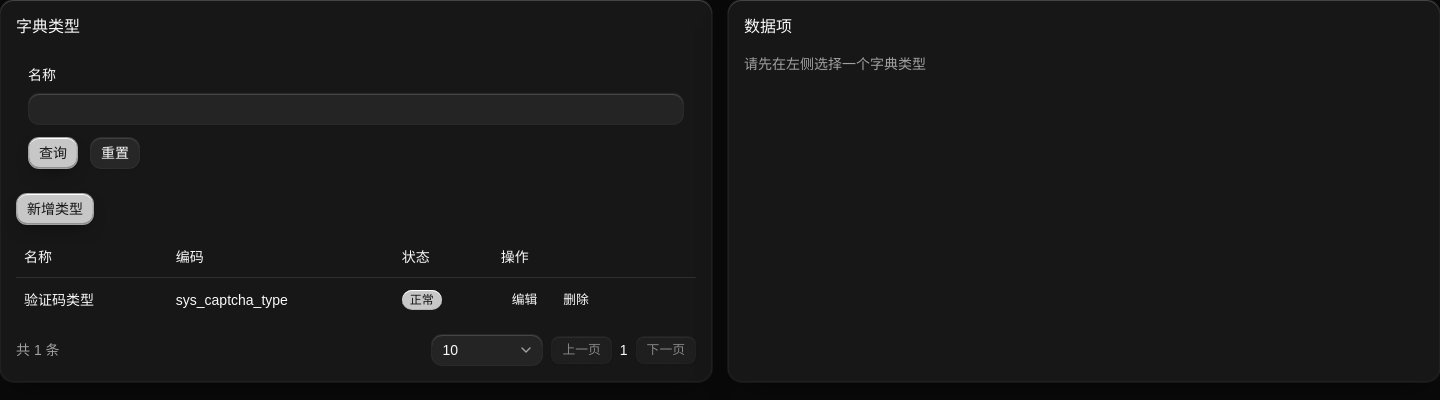
Scenario: Dict page (two panels) › loads type list then items of selected type
Click the button "验证码类型" at [59, 300], box [24,290,94,310]
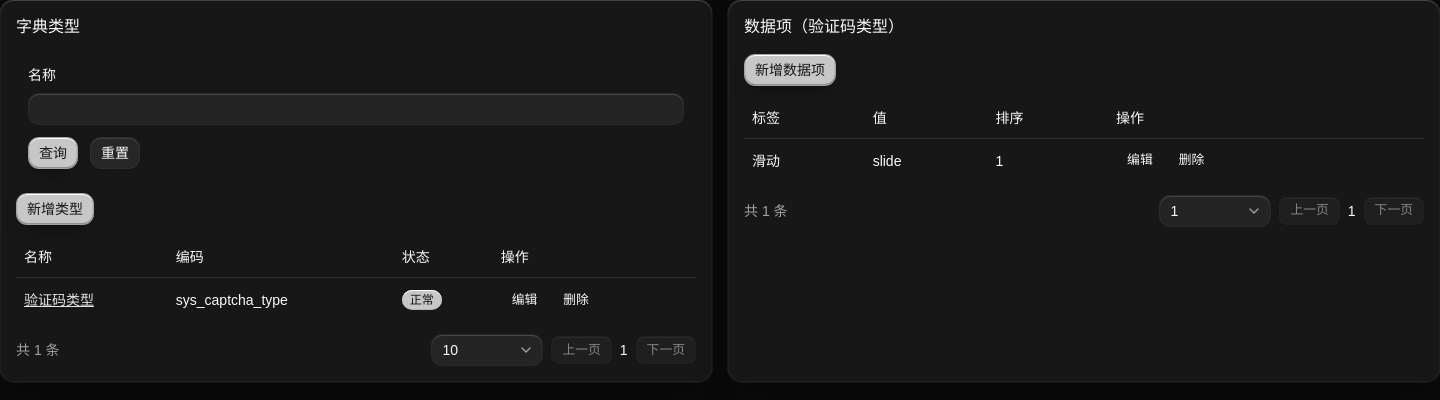
Now the text "滑动" is shown, box [744,138,865,182]
